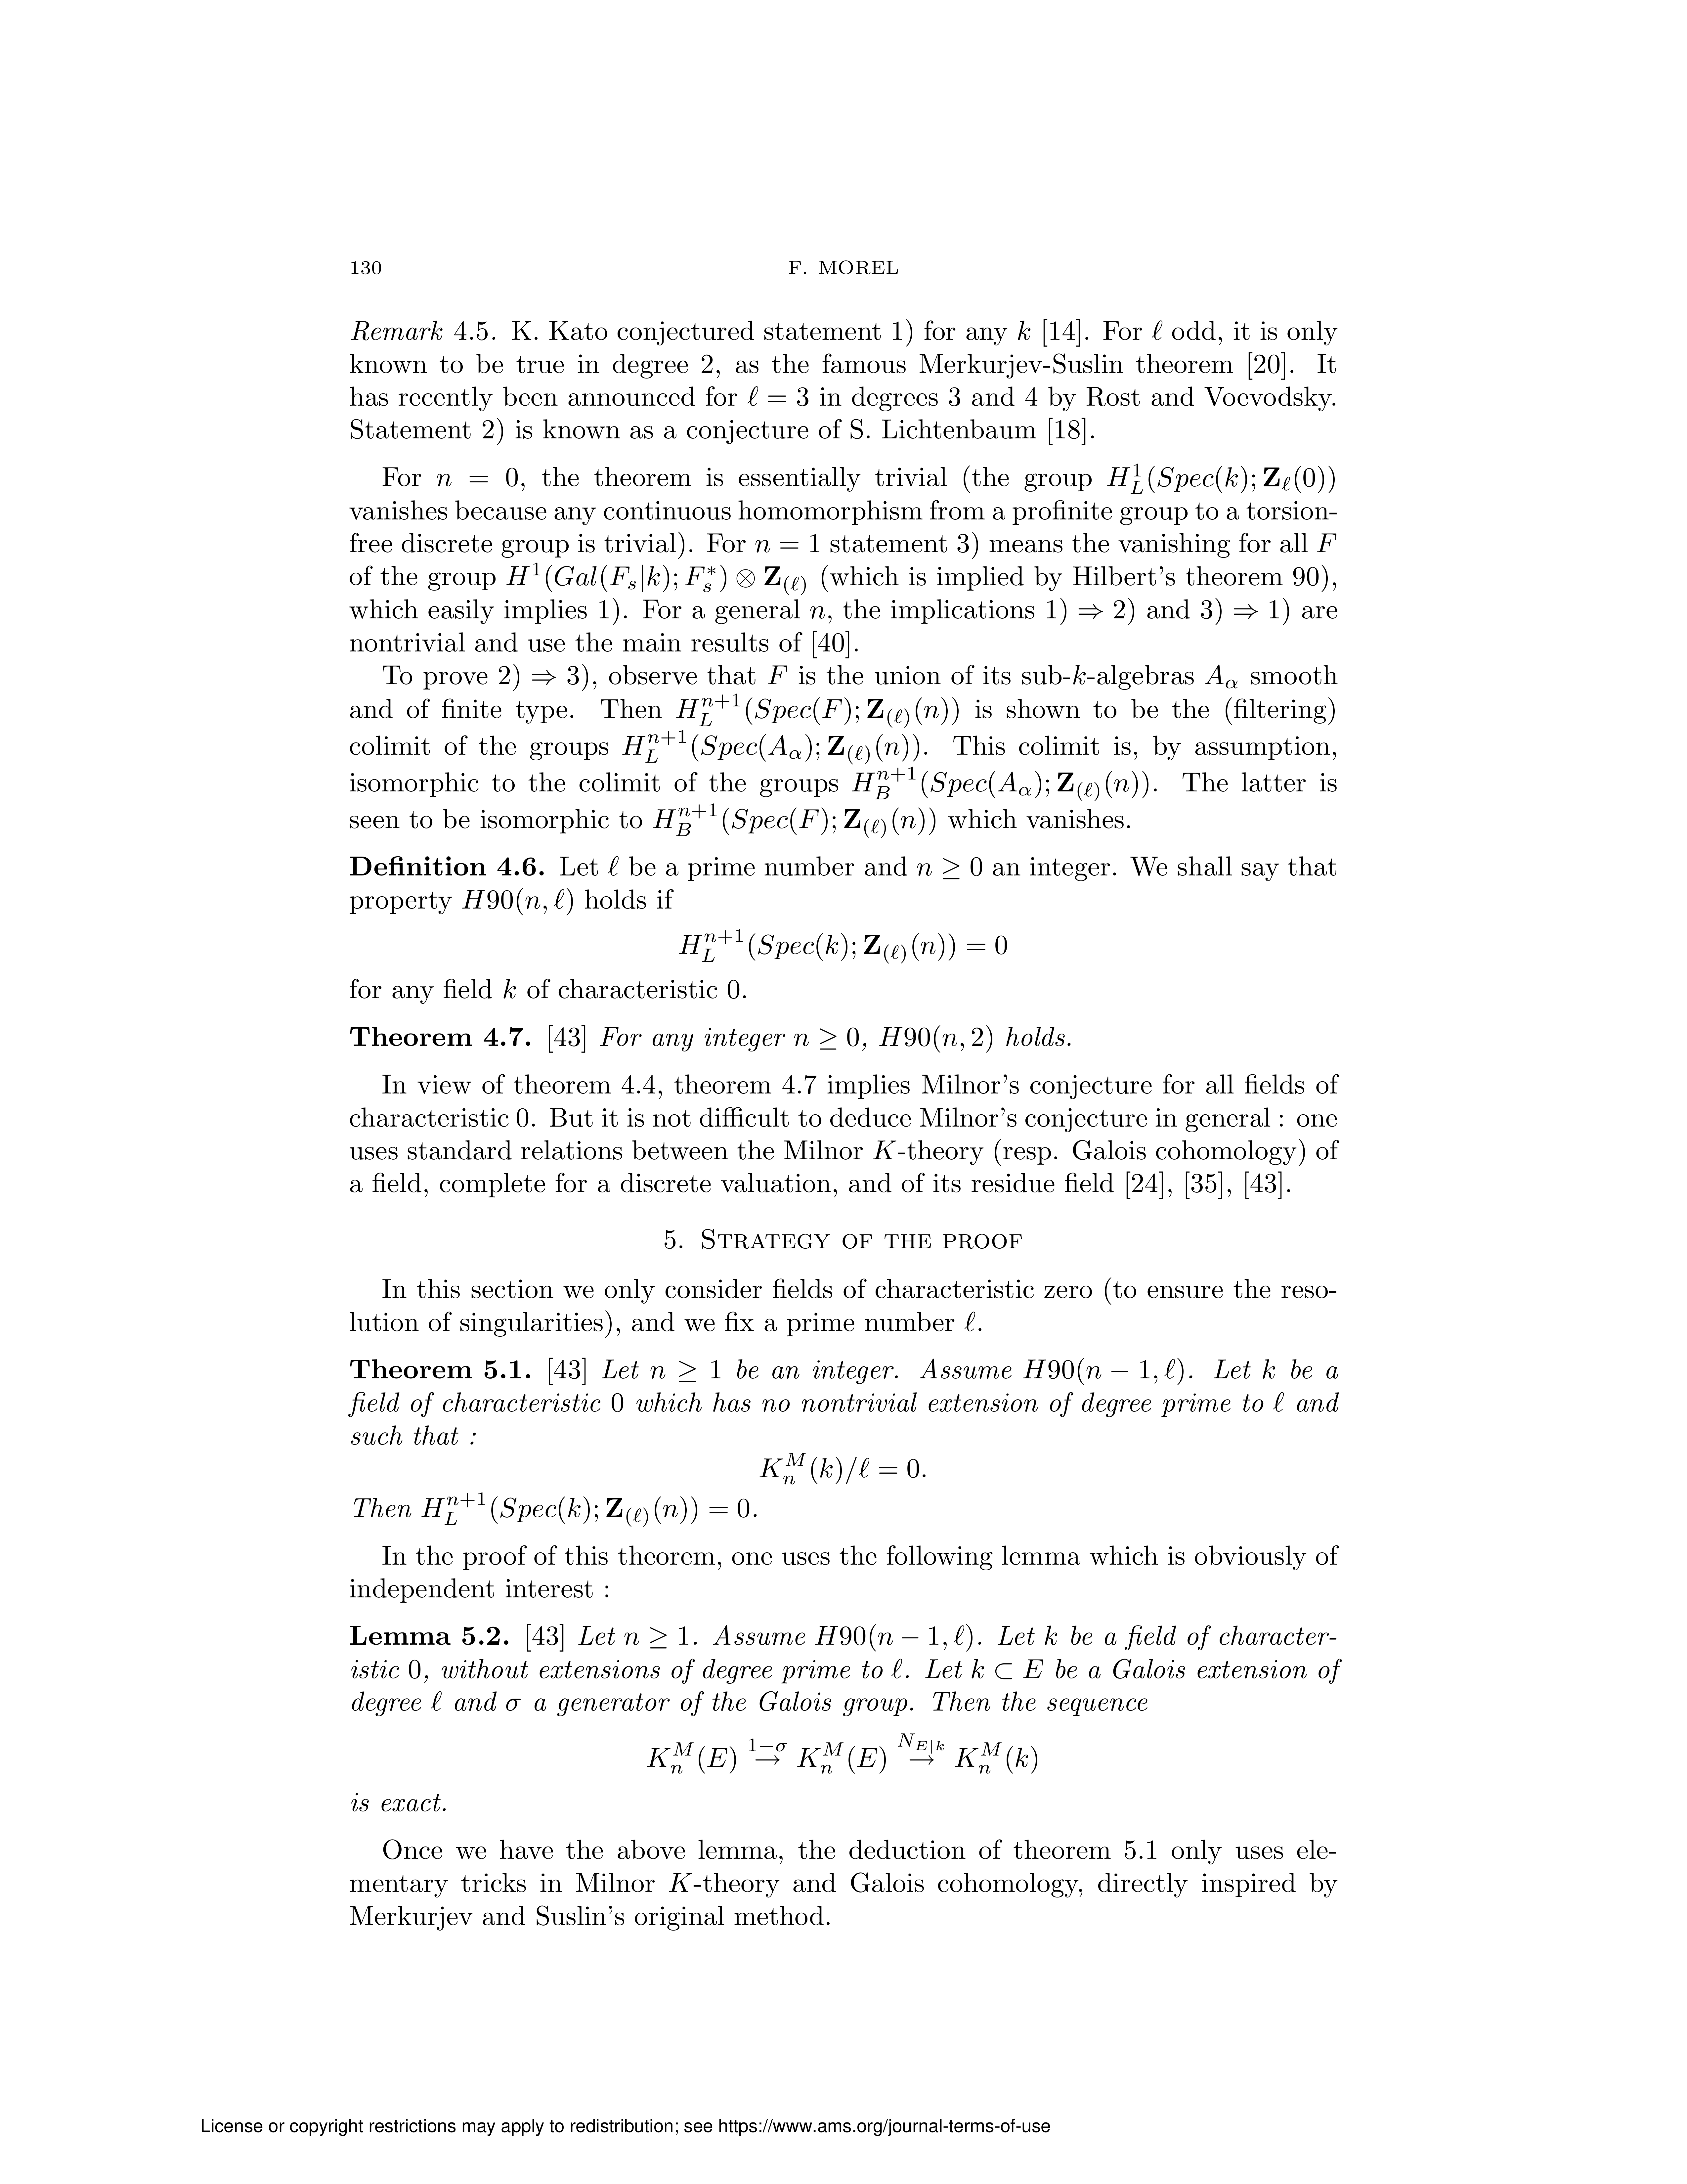expr: (161, 399, 1201, 502), (151, 769, 1214, 856), (280, 1152, 1079, 1237), (285, 941, 1083, 1026), (234, 647, 670, 748), (416, 507, 939, 590), (151, 1081, 542, 1129), (865, 1668, 1210, 1711), (700, 310, 1212, 339), (198, 1372, 400, 1439), (656, 1716, 943, 1751), (158, 1714, 376, 1751), (955, 1480, 1203, 1512), (429, 1551, 686, 1581), (211, 1587, 424, 1622), (151, 1514, 358, 1546), (716, 1551, 911, 1583), (454, 1716, 631, 1746), (152, 310, 312, 335), (415, 1484, 498, 1509), (696, 1670, 753, 1700), (271, 1337, 330, 1363), (1072, 278, 1141, 300), (237, 612, 292, 638), (748, 886, 817, 904), (594, 1301, 636, 1330), (861, 1588, 904, 1617), (445, 1266, 487, 1292), (622, 1337, 661, 1363), (571, 892, 654, 904), (610, 1627, 638, 1657), (151, 1395, 179, 1420), (716, 1519, 741, 1540), (675, 1491, 702, 1510), (911, 1337, 934, 1358), (1040, 1266, 1061, 1287), (413, 1631, 434, 1650), (409, 883, 422, 904), (278, 1048, 289, 1069), (732, 1275, 742, 1294), (1042, 620, 1054, 633), (441, 317, 452, 332), (854, 697, 865, 711)
